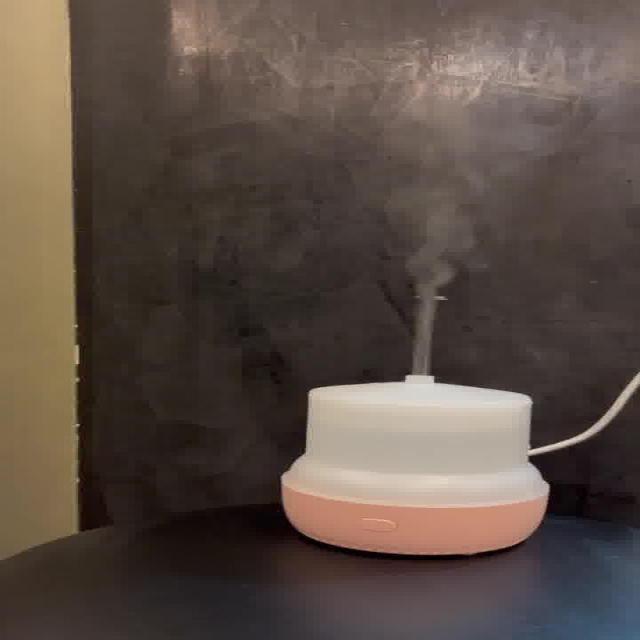fire: (397, 79, 640, 372)
